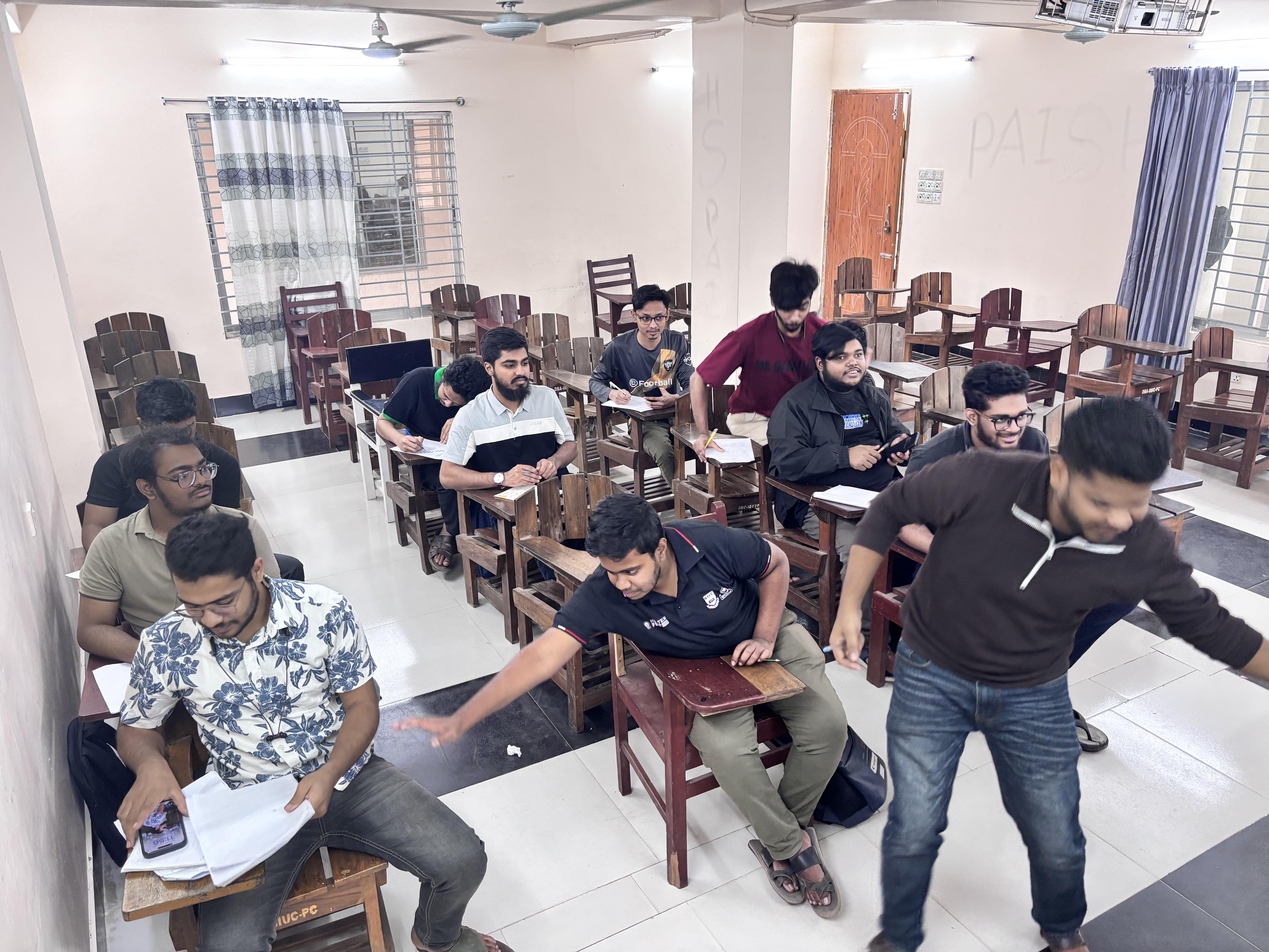copying: (690, 256, 825, 467)
no_cheating: (465, 322, 577, 527), (86, 437, 233, 547), (929, 359, 1043, 486), (594, 287, 690, 426), (380, 358, 484, 458)
suspicious_moving: (903, 398, 1194, 913), (544, 493, 789, 721)
using_phone: (114, 508, 343, 897), (793, 327, 926, 522)
